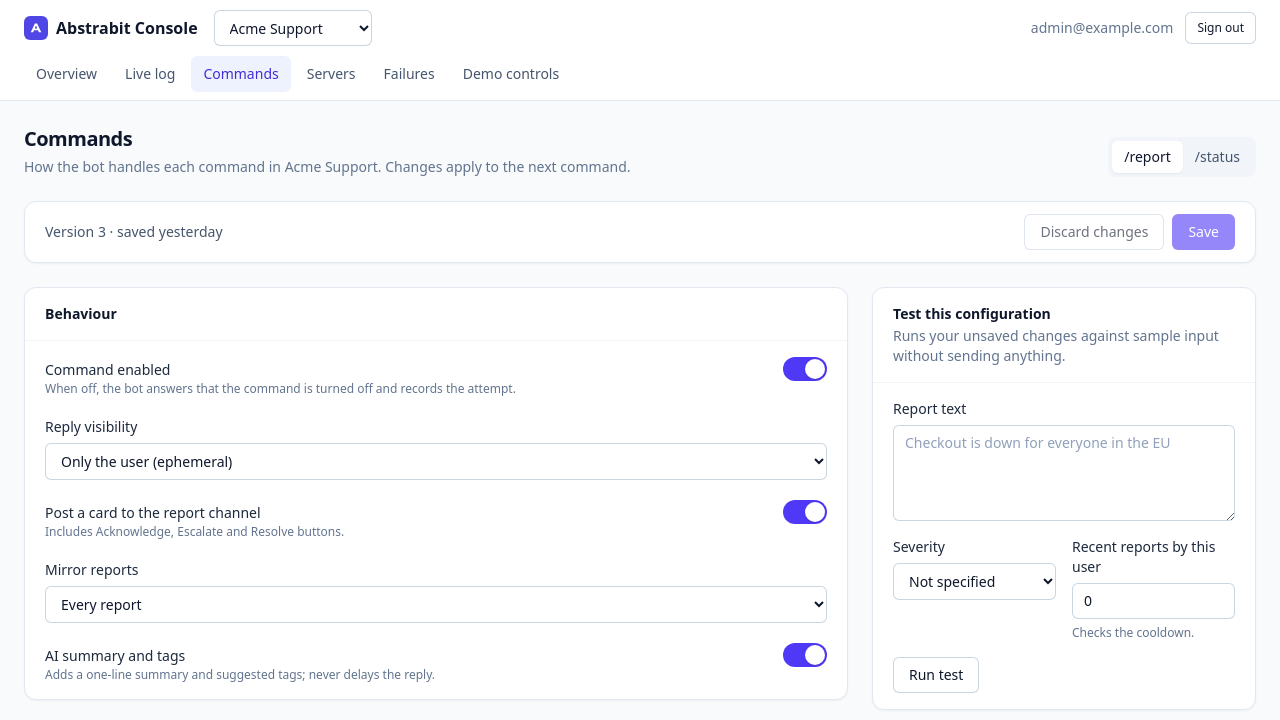
Scenario: command configuration › saves changes with the version they were based on
Expected: the button "Save" is disabled, [1172, 214, 1235, 250]
What coordinates should you click on to do the following:
click the switch named "AI summary and tags" in the row of "AI summary and tags"
I would click on:
 (805, 655)
Its box is [783, 643, 827, 667].
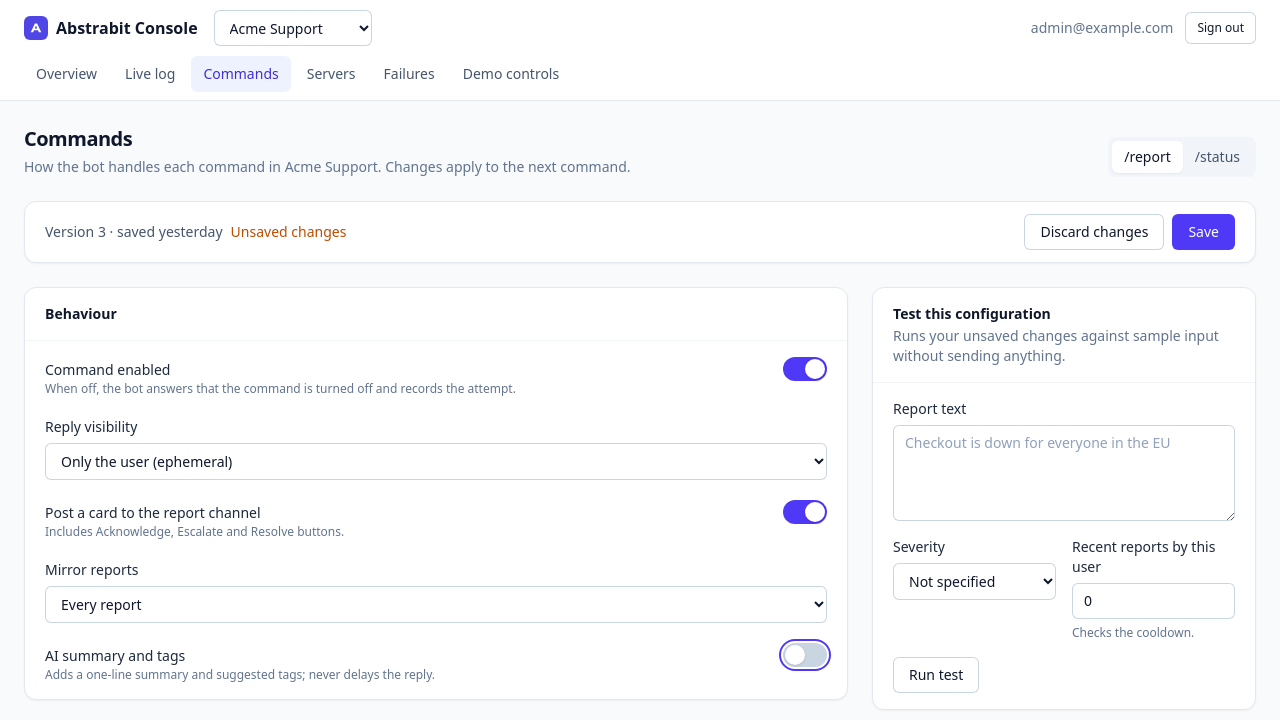
Expected: the text "Unsaved changes" is shown, [231, 222, 346, 241]
What coordinates should you click on to do the following:
click the button "Save"
I would click on:
 (1204, 232)
Its box is [1172, 214, 1235, 250].
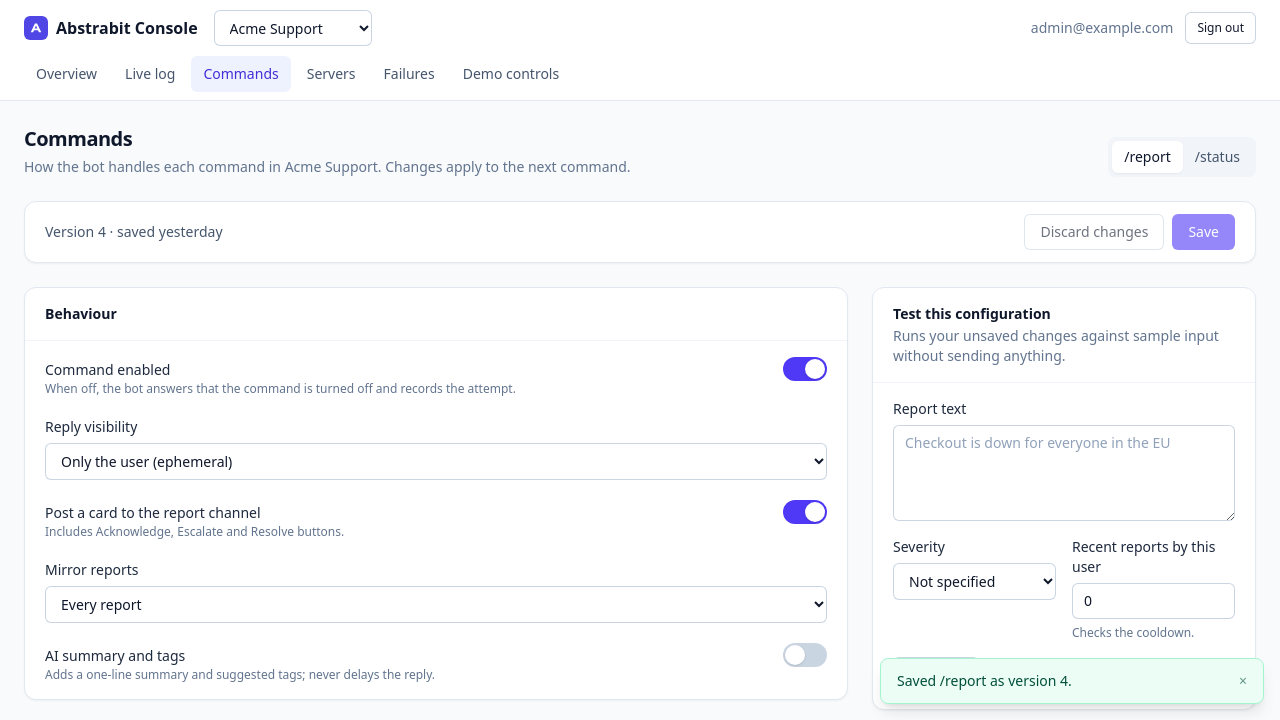
Expected: the text "Saved /report as version 4." is shown, [897, 671, 1072, 690]
